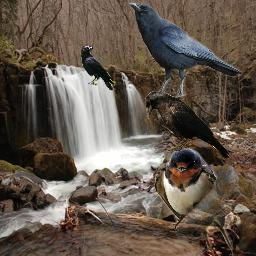Crow: (127, 2, 242, 99), (145, 91, 231, 159), (81, 46, 116, 91)
Swallow: (155, 148, 233, 251)
